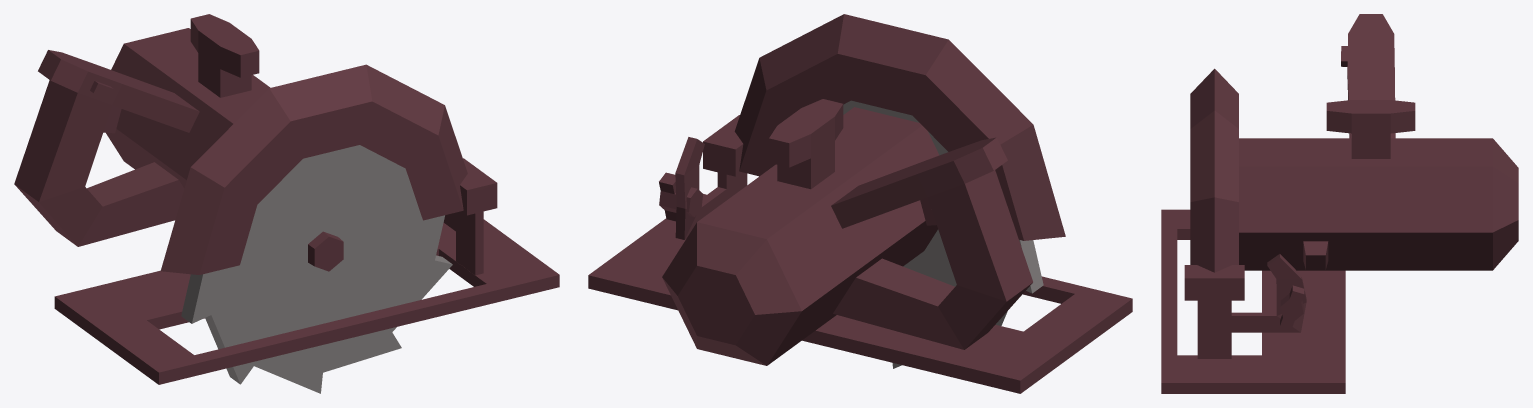
File: saw-circular.fbx
The picture shows the model from 3 angles, left to right: view 1: azimuth 30°, elevation 25°; view 2: azimuth 150°, elevation 25°; view 3: azimuth 270°, elevation 25°; orthographic projection. The views are drawn at different scales.
Parts seen in each view (by area): view 1: saw-circular; view 2: saw-circular; view 3: saw-circular.
Boxes of the visible parts, box(x1,y1,x2,y2) form: saw-circular: box(14, 14, 559, 393); saw-circular: box(588, 14, 1132, 393); saw-circular: box(1161, 14, 1518, 393).
Size of the model in its own units: 0.3588 by 0.2588 by 0.302.
